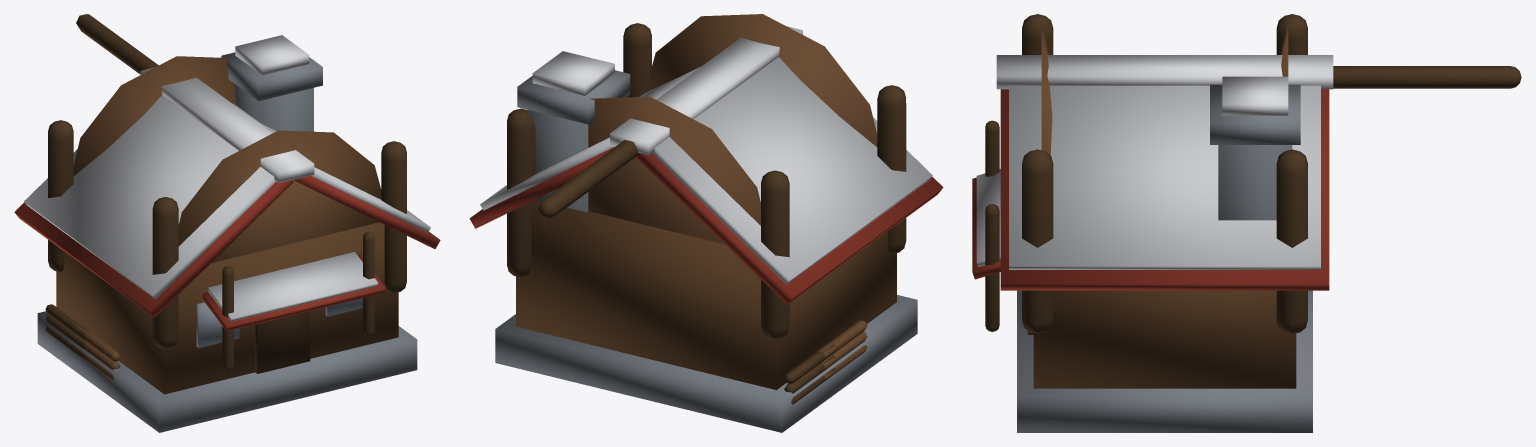
The model's file is log_cabin.glb.
The picture shows the model from 3 angles, left to right: view 1: azimuth 30°, elevation 25°; view 2: azimuth 150°, elevation 25°; view 3: azimuth 270°, elevation 25°; orthographic projection. The views are drawn at different scales.
Parts seen in each view (by area): view 1: log_cabin; view 2: log_cabin; view 3: log_cabin.
Boxes of the visible parts, x1,y1,x2,y2 form: log_cabin: (14,14,440,432); log_cabin: (469,14,943,432); log_cabin: (972,14,1521,432).
Size of the model in its own units: 4.97 by 4.3 by 6.68.
